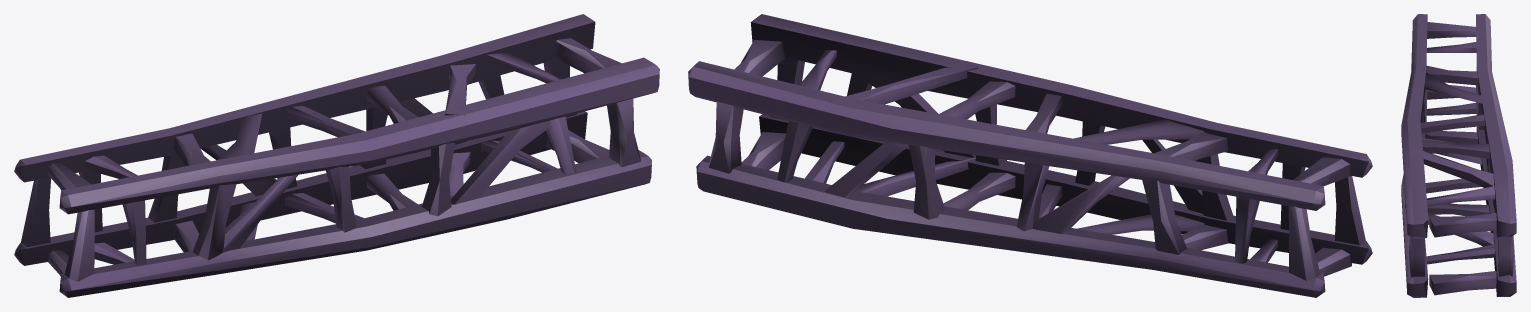
The model's file is SM_Frame_01.fbx.
The picture shows the model from 3 angles, left to right: view 1: azimuth 30°, elevation 25°; view 2: azimuth 150°, elevation 25°; view 3: azimuth 270°, elevation 25°; orthographic projection. The views are drawn at different scales.
Visible parts, largest first — view 1: SM_Frame_01; view 2: SM_Frame_01; view 3: SM_Frame_01.
Boxes of the visible parts, box(x1,y1,x2,y2) form: SM_Frame_01: box(14, 14, 659, 297); SM_Frame_01: box(688, 14, 1372, 297); SM_Frame_01: box(1401, 14, 1516, 297).
Size of the model in its own units: 5.71 by 1.19 by 1.38.
